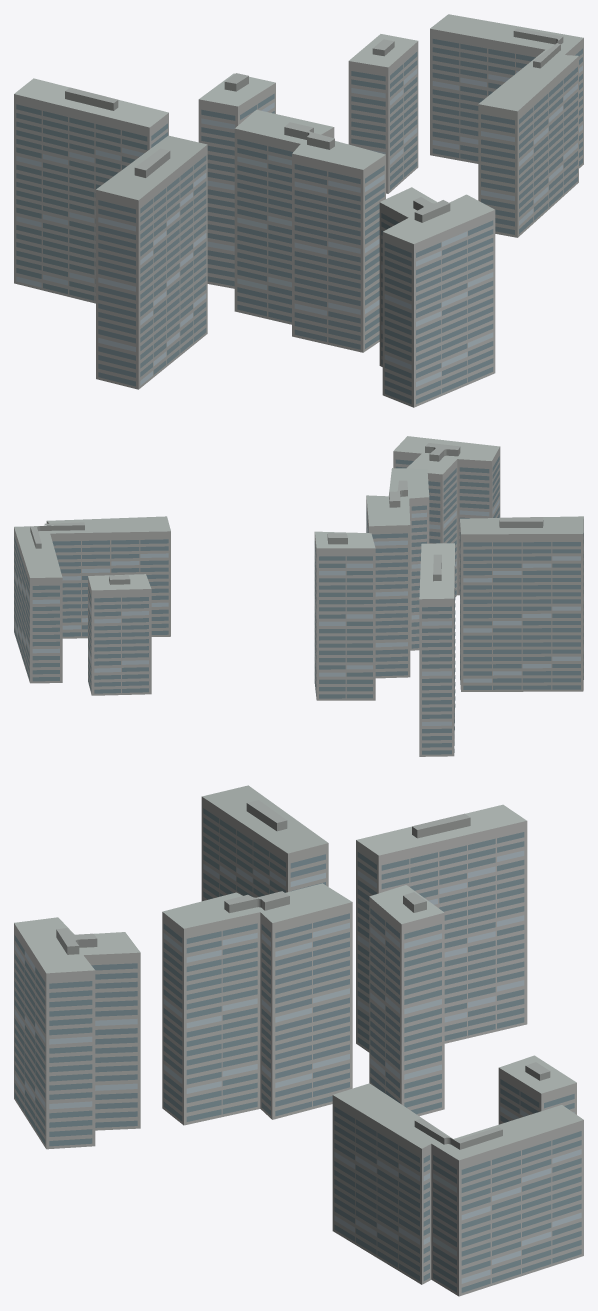
File: apt-a13981608.glb
The picture shows the model from 3 angles, top to bottom: view 1: azimuth 30°, elevation 25°; view 2: azimuth 150°, elevation 25°; view 3: azimuth 270°, elevation 25°; orthographic projection. The views are drawn at different scales.
Visible parts, largest first — view 1: apt-a13981608; view 2: apt-a13981608; view 3: apt-a13981608.
Part boxes in pixels (x1,y1,x2,y2): apt-a13981608: (14, 14, 583, 407); apt-a13981608: (14, 436, 583, 756); apt-a13981608: (14, 785, 583, 1296).
Bounding box in the file's own units: 190 × 61 × 149.
